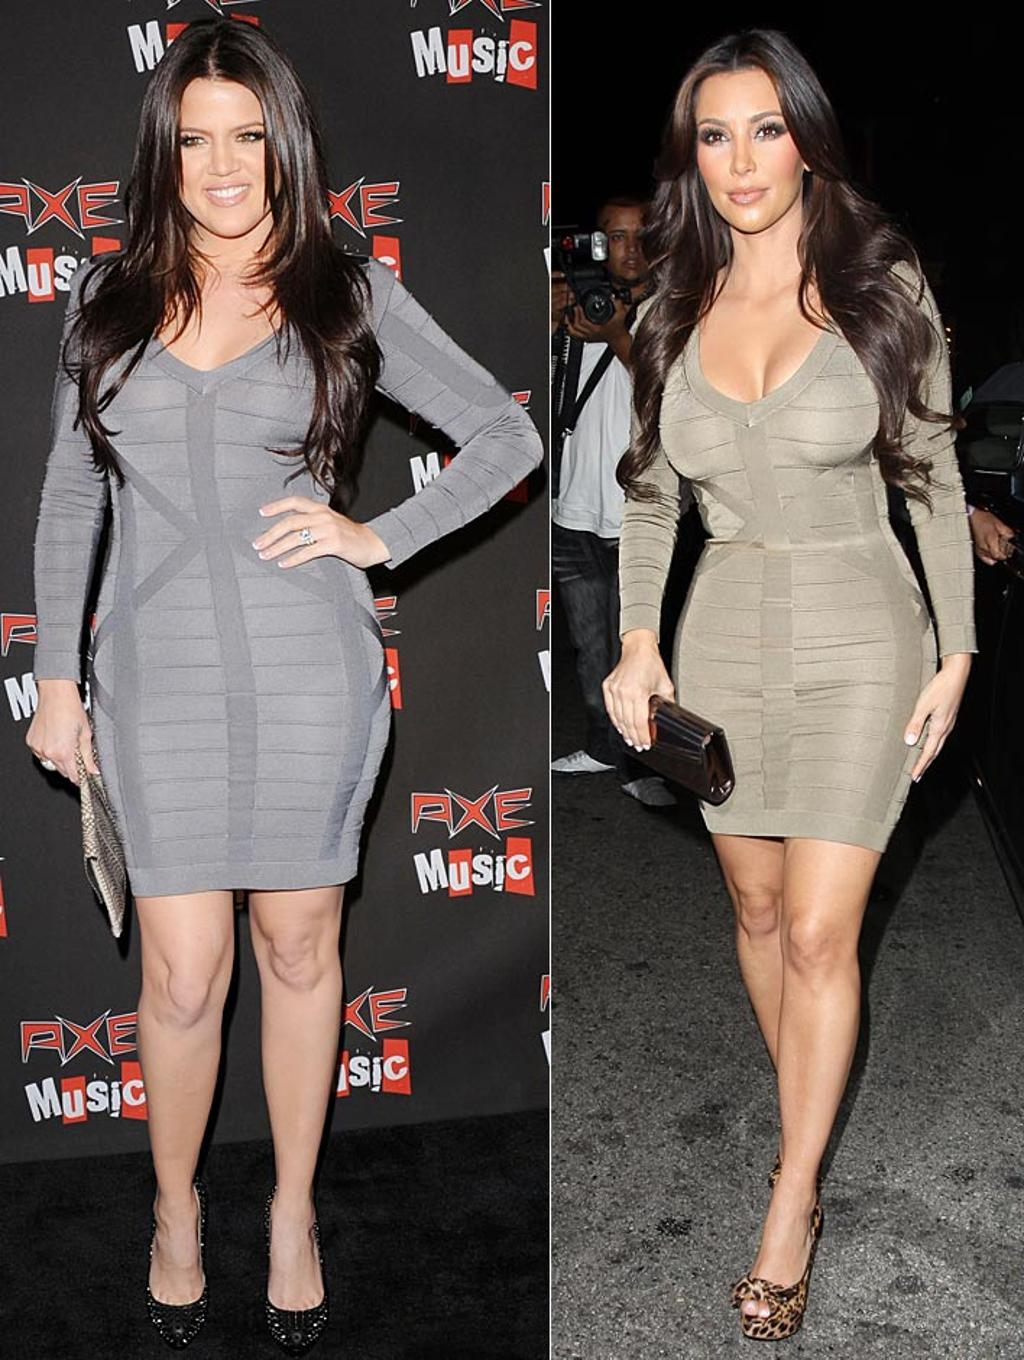face: (154, 69, 284, 236), (690, 66, 801, 233), (594, 204, 658, 286)
